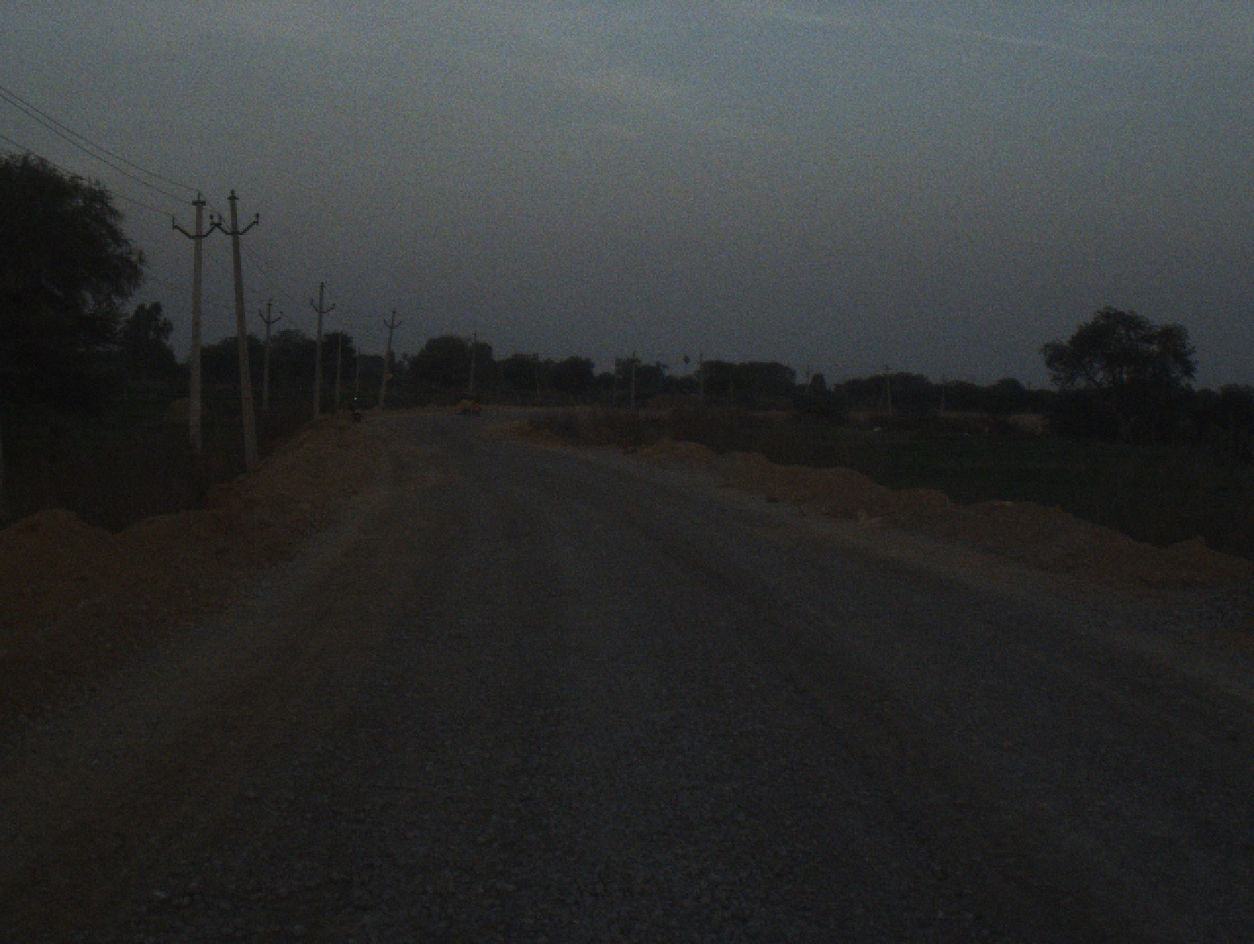autorickshaw: (457, 383, 485, 420)
motorcycle: (345, 394, 362, 416)
